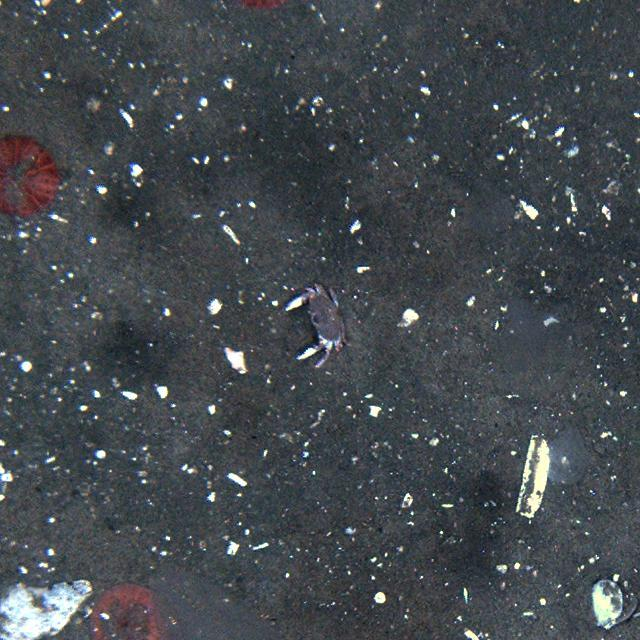crab: (283, 285, 356, 366)
